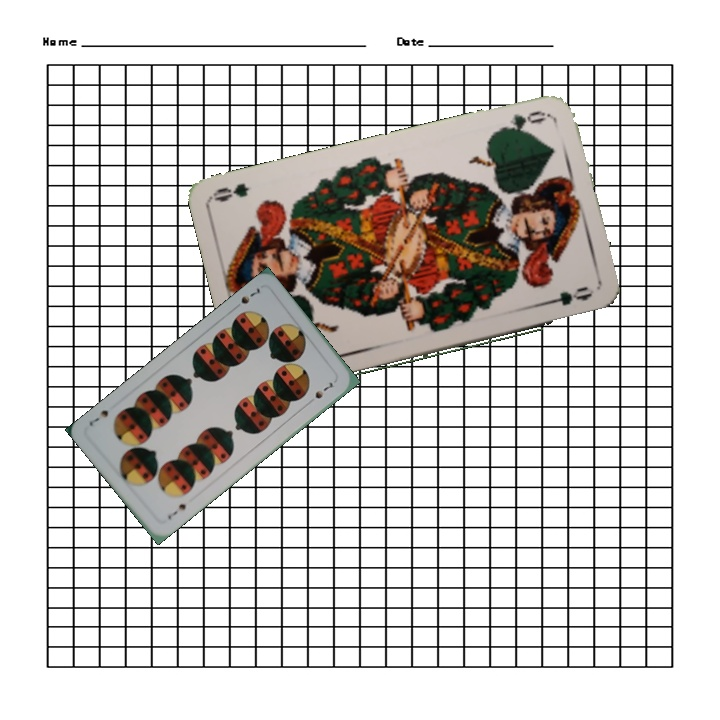GO: (494, 106, 552, 134)
S7: (237, 283, 263, 307), (164, 499, 188, 522)
